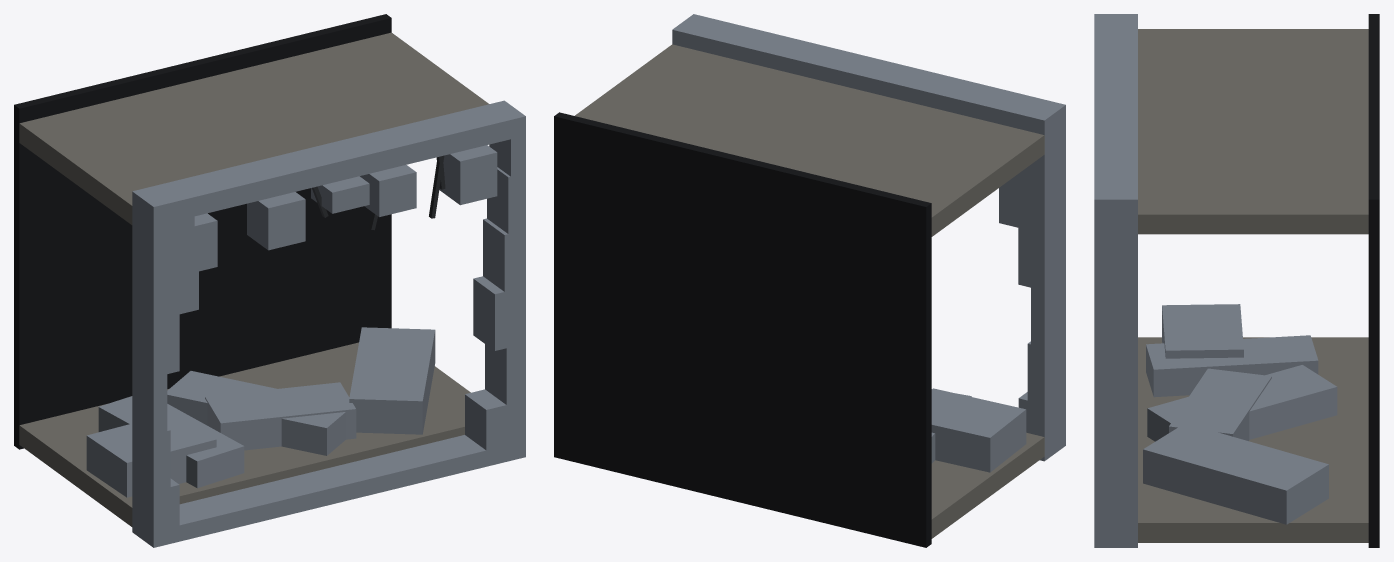
The model's file is cw_hole.glb.
3 views of the same model, side by side, from view 1: azimuth 30°, elevation 25°; view 2: azimuth 150°, elevation 25°; view 3: azimuth 270°, elevation 25° (orthographic). The views are drawn at different scales.
Visible parts, largest first — view 1: city_cw_hole; view 2: city_cw_hole; view 3: city_cw_hole.
Boxes of the visible parts, bbox=[...] form: city_cw_hole: bbox=[14, 14, 525, 547]; city_cw_hole: bbox=[554, 14, 1065, 547]; city_cw_hole: bbox=[1094, 14, 1379, 547].
Bounding box in the file's own units: 4.04 × 3.5 × 2.6.
Materials: 2 (2 with a texture image).
